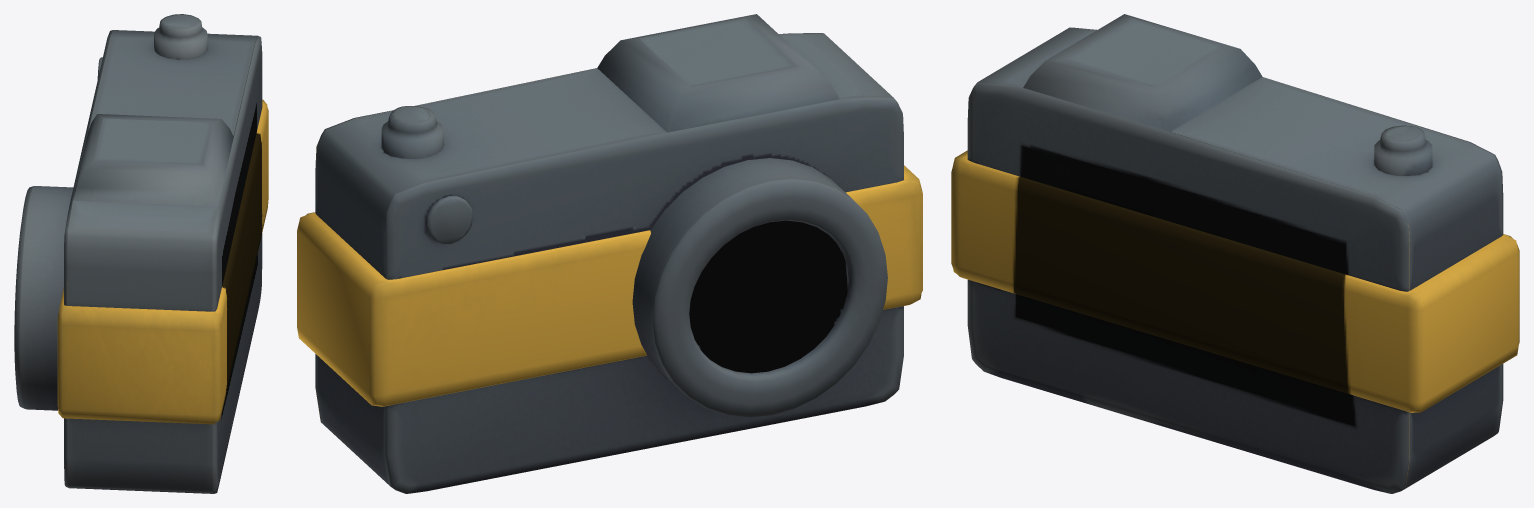
Rendered from camera.glb.
The picture shows the model from 3 angles, left to right: view 1: azimuth 30°, elevation 25°; view 2: azimuth 150°, elevation 25°; view 3: azimuth 270°, elevation 25°; orthographic projection. The views are drawn at different scales.
Visible parts, largest first — view 1: SM_island_camera; view 2: SM_island_camera; view 3: SM_island_camera.
Part boxes in pixels (box(x1,y1,x2,y2)): SM_island_camera: box(14, 14, 268, 493); SM_island_camera: box(297, 14, 922, 493); SM_island_camera: box(951, 14, 1519, 493).
Size of the model in its own units: 1.85 by 1.37 by 2.17.
Materials: 1 (1 with a texture image).
